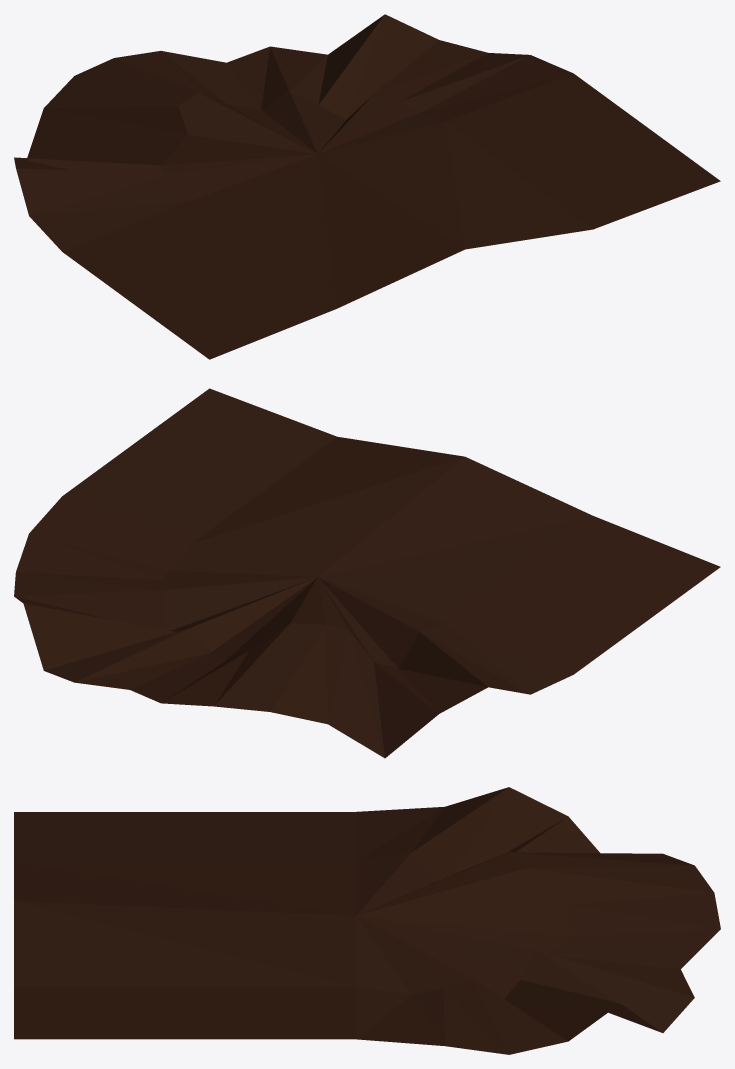
The model's file is Ground.fbx.
The picture shows the model from 3 angles, top to bottom: view 1: azimuth 30°, elevation 25°; view 2: azimuth 150°, elevation 25°; view 3: azimuth 270°, elevation 25°; orthographic projection. The views are drawn at different scales.
Parts seen in each view (by area): view 1: Cylinder001; view 2: Cylinder001; view 3: Cylinder001.
Boxes of the visible parts, box(x1,y1,x2,y2) form: Cylinder001: box(14, 14, 720, 359); Cylinder001: box(14, 388, 720, 758); Cylinder001: box(14, 787, 720, 1054).
Size of the model in its own units: 1000 by 1030 by 136.
